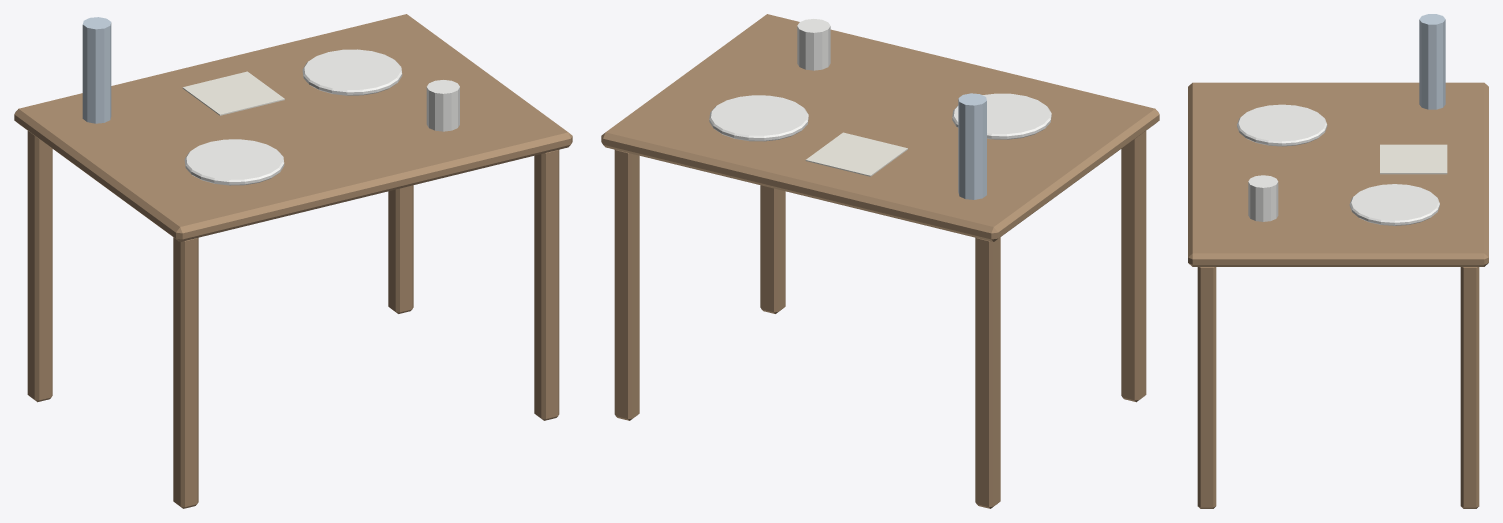
The model's file is kitchen_table.fbx.
The picture shows the model from 3 angles, left to right: view 1: azimuth 30°, elevation 25°; view 2: azimuth 150°, elevation 25°; view 3: azimuth 270°, elevation 25°; orthographic projection. The views are drawn at different scales.
Visible parts, largest first — view 1: Table; view 2: Table; view 3: Table.
Part boxes in pixels (x1,y1,x2,y2): Table: (14,14,572,508); Table: (601,14,1159,508); Table: (1188,14,1488,508).
Size of the model in its own units: 1.1 by 1.01 by 0.8.
